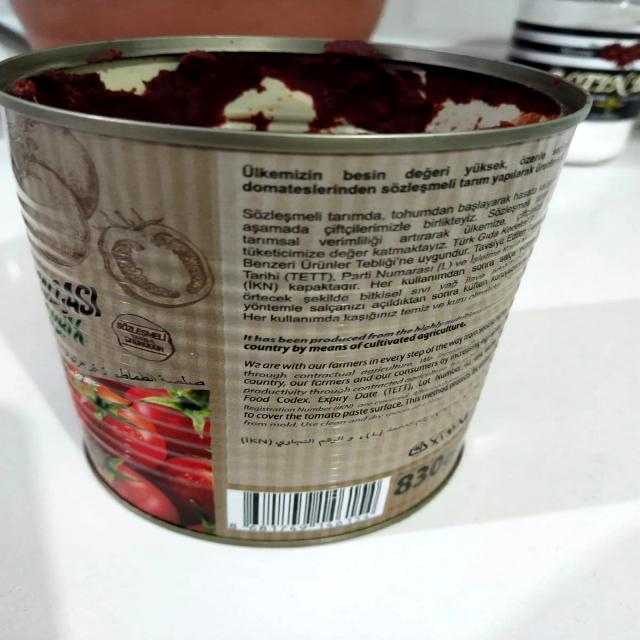tomato paste: (18, 35, 570, 541)
